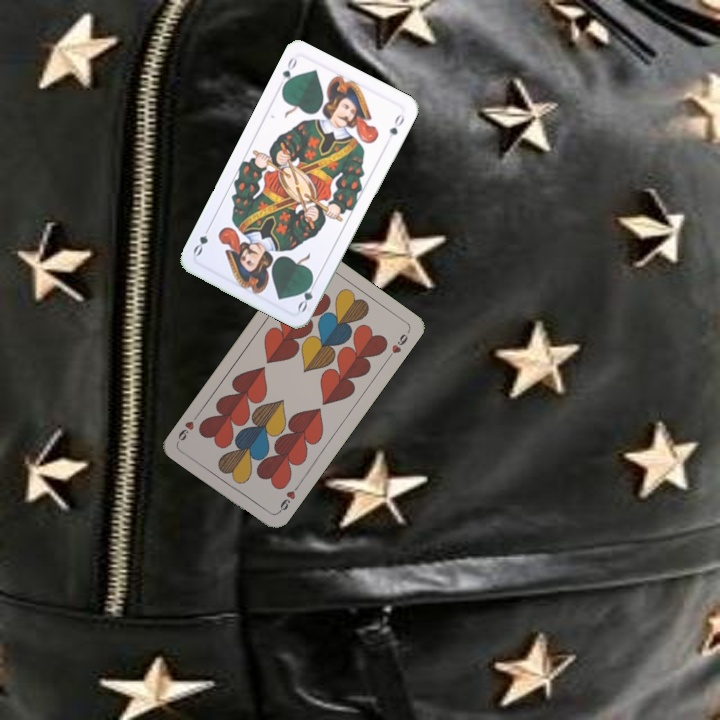GO: (294, 274, 320, 315), (278, 53, 300, 92)
H9: (273, 481, 302, 516)
